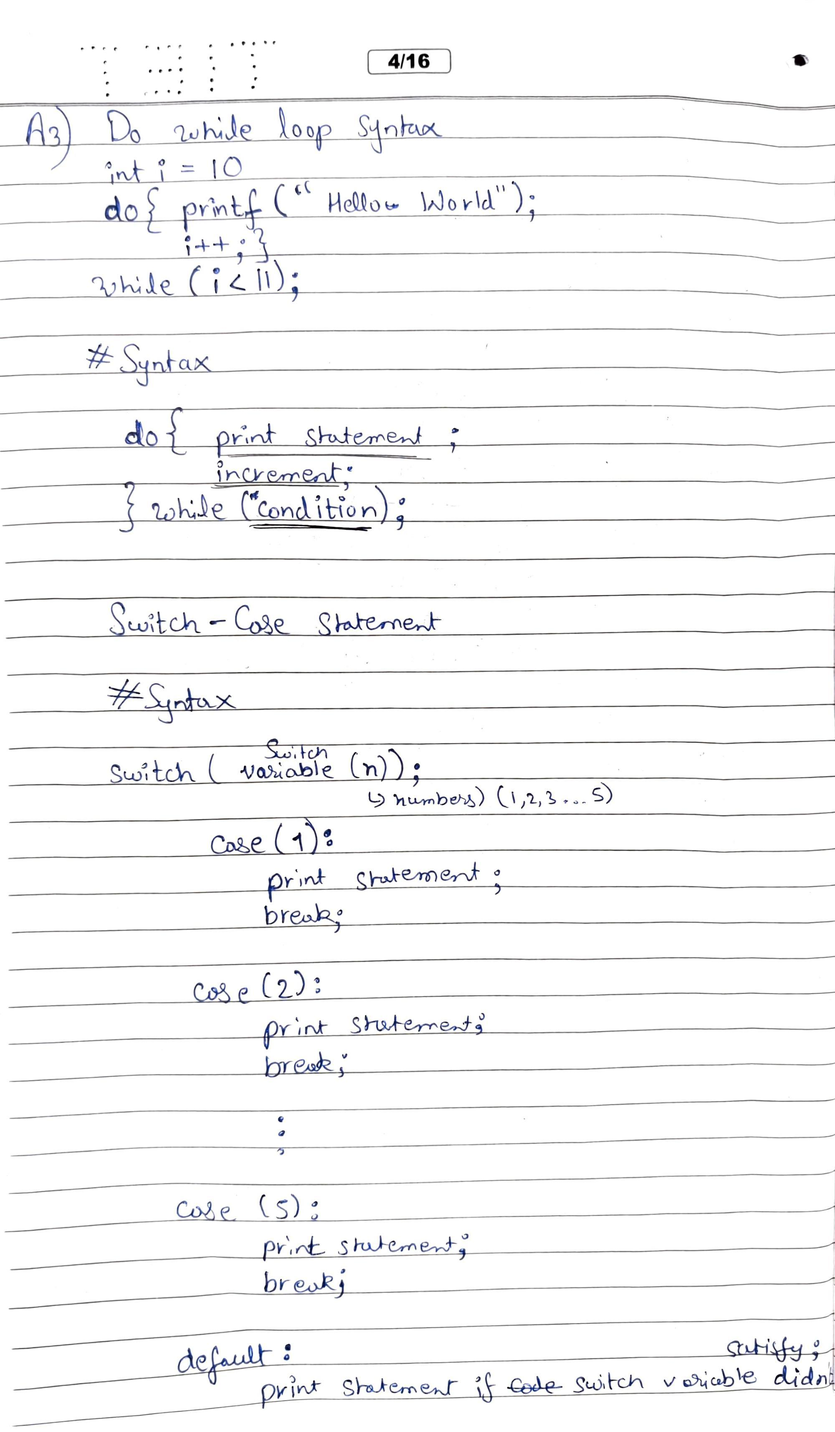cuttings: (502, 1374, 566, 1397)
